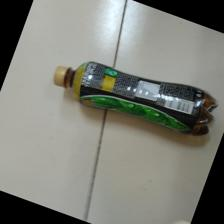Olong: (51, 61, 218, 138)
